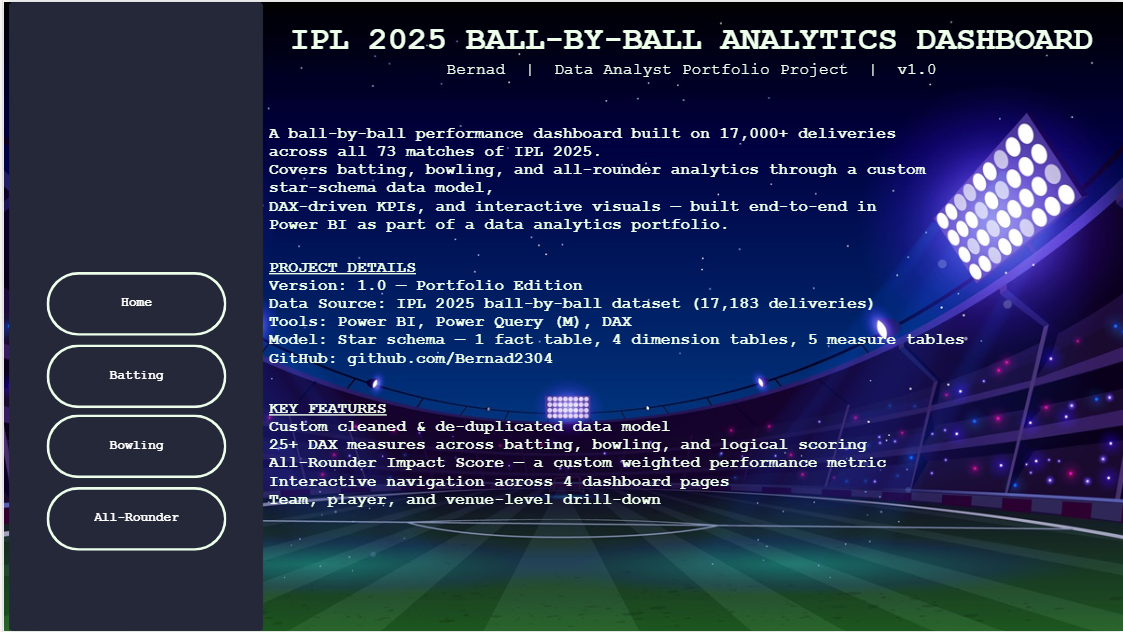

Layout of this report page (visuals, bound fields, positions):
{"tool":"powerbi","page":{"name":"Cover","canvas":[1280,720],"ordinal":0},"visuals":[{"type":"shape","box":[5.7,0,290,720],"z":0},{"type":"textbox","box":[302.9,22.9,965.7,44.3],"z":1000},{"type":"actionButton","box":[48.6,391.4,205.7,72.9],"z":2000},{"type":"actionButton","box":[48.6,471.4,205.7,72.9],"z":4001},{"type":"actionButton","box":[48.6,554.3,205.7,72.9],"z":4002},{"type":"actionButton","box":[48.6,308.6,205.7,72.9],"z":4003},{"type":"textbox","box":[302.9,67.1,965.7,28.6],"z":4004},{"type":"textbox","box":[302.9,140,755.7,142.9],"z":4005},{"type":"textbox","box":[302.9,292.9,965.7,148.6],"z":4006},{"type":"textbox","box":[302.9,454.3,755.7,172.9],"z":4007}]}

Visuals, with their boxes in screenshot pixels (x1, y1, x2, y2), scaled from the page's 1280x720 canvas onto the 1123x632 screenshot:
shape: bbox=(5, 0, 259, 631)
textbox: bbox=(266, 20, 1113, 59)
actionButton: bbox=(43, 344, 223, 408)
actionButton: bbox=(43, 414, 223, 478)
actionButton: bbox=(43, 487, 223, 551)
actionButton: bbox=(43, 271, 223, 335)
textbox: bbox=(266, 59, 1113, 84)
textbox: bbox=(266, 123, 929, 248)
textbox: bbox=(266, 257, 1113, 388)
textbox: bbox=(266, 399, 929, 551)
